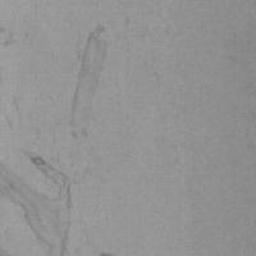Water spot: (0, 151, 73, 256), (74, 22, 115, 141), (0, 238, 17, 256), (101, 247, 125, 256)
